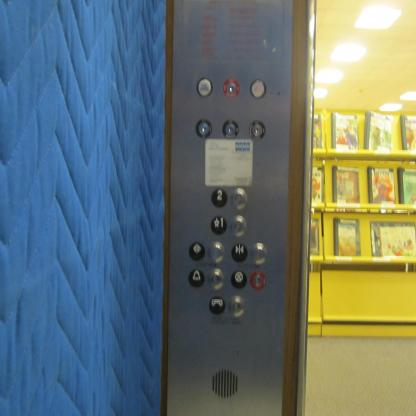2: (210, 187, 228, 208)
alarm: (187, 267, 205, 287)
call: (208, 294, 225, 315)
close: (230, 242, 248, 262)
empty: (206, 240, 225, 263), (206, 266, 225, 289), (227, 293, 246, 316), (250, 240, 268, 263), (230, 187, 248, 208), (229, 215, 247, 236)
keyhole: (222, 76, 240, 99), (247, 119, 266, 140), (194, 118, 212, 139), (221, 118, 239, 139), (248, 269, 266, 290)
open: (188, 240, 205, 261)
s1: (209, 214, 227, 234)
stop: (230, 269, 248, 289)
text: (196, 76, 213, 99)
unknown: (249, 76, 266, 99)
